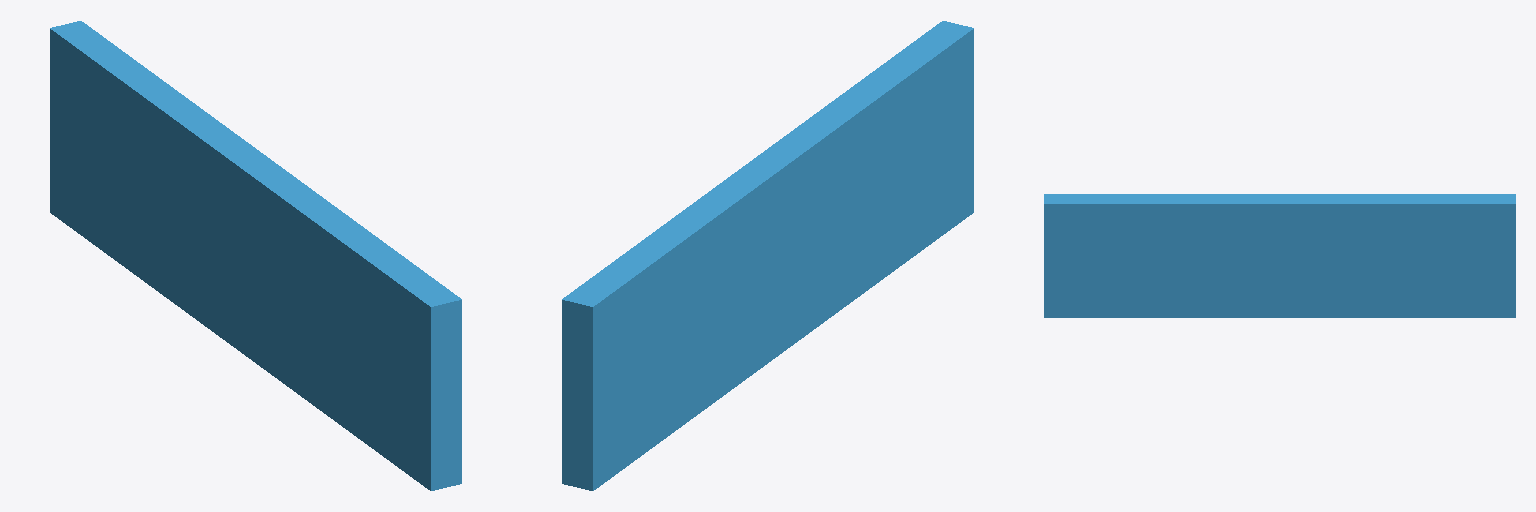
The robot description file, URDF, robot "box_22":
<?xml version="1.0" encoding="utf-8"?>    
    
    <robot name="box_22">
        <link name="box_22">    
            <fem>
                <origin rpy="0.0 0.0 0.0" xyz="0 0 0" />
                <density value="100" />
                <youngs value="9688"/>
                <poissons value="0.3"/>
                <damping value="0.0" /> 
                <attachDistance value="0.01"/>
                <tetmesh filename="../../../../Custom_mesh/physical_dvrk/multi_box_10kPa/box_22.tet"/>
                <scale value="1.0"/>
            </fem>
        </link>
        
        <link name="fix_frame">
            <visual>
                <origin xyz="-10.080 0.0 0.0"/>              
                <geometry>
                    <box size="0.005 0.105 0.028"/>
                </geometry>
            </visual>
            <collision>
                <origin xyz="-0.080 0.0 0.0"/>              
                <geometry>
                    <box size="0.005 0.105 0.028"/>
                </geometry>
            </collision>
            <inertial>
                <mass value="500000"/>
                <inertia ixx="0.05" ixy="0.0" ixz="0.0" iyy="0.05" iyz="0.0" izz="0.05"/>
            </inertial>
        </link>
        
        <joint name = "attach" type = "fixed">
            <origin xyz = "0.0 0.0 0.0" rpy = "0 0 0"/>
            <parent link = "box_22"/>
            <child link = "fix_frame"/>
        </joint>  
        
    </robot>
    

--- Facts derived from the render (not from the file) ---
3 views of the same robot in one strip: view 1: azimuth 30°, elevation 25°; view 2: azimuth 150°, elevation 25°; view 3: azimuth 270°, elevation 25° (orthographic).
Model box_22 with 2 links and 1 joints (1 fixed), rooted at box_22, posed every joint at zero.
Links seen in each view (by area): view 1: fix_frame; view 2: fix_frame; view 3: fix_frame.
Link boxes in pixels (x1=…): fix_frame: x1=50, y1=21, x2=461, y2=490; fix_frame: x1=562, y1=21, x2=973, y2=490; fix_frame: x1=1044, y1=194, x2=1515, y2=317.
Bounding box of the posed robot: 0.005 × 0.105 × 0.028 m (x, y, z).
Geometry: primitives only (box / cylinder / sphere), no mesh files.